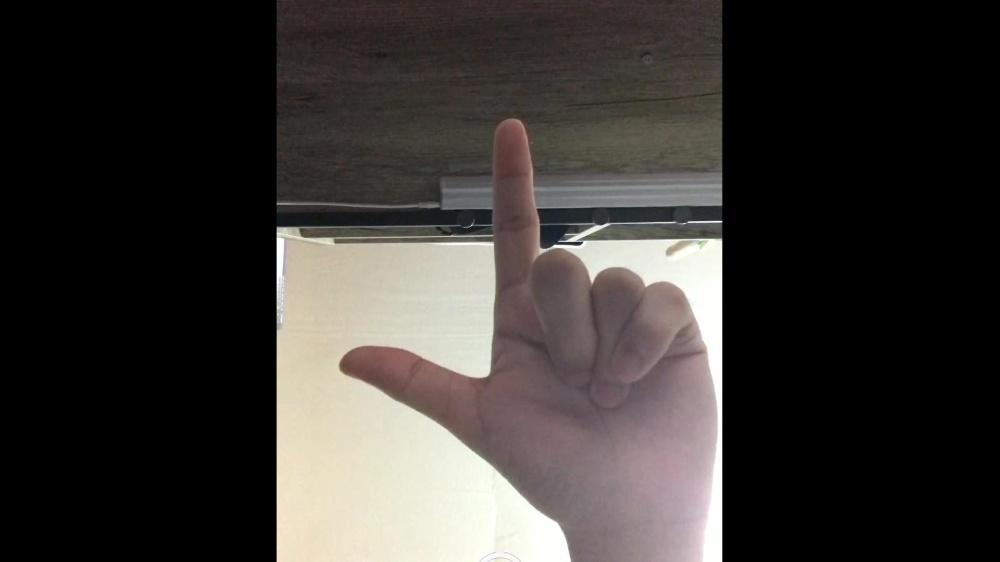l: (334, 117, 718, 515)
